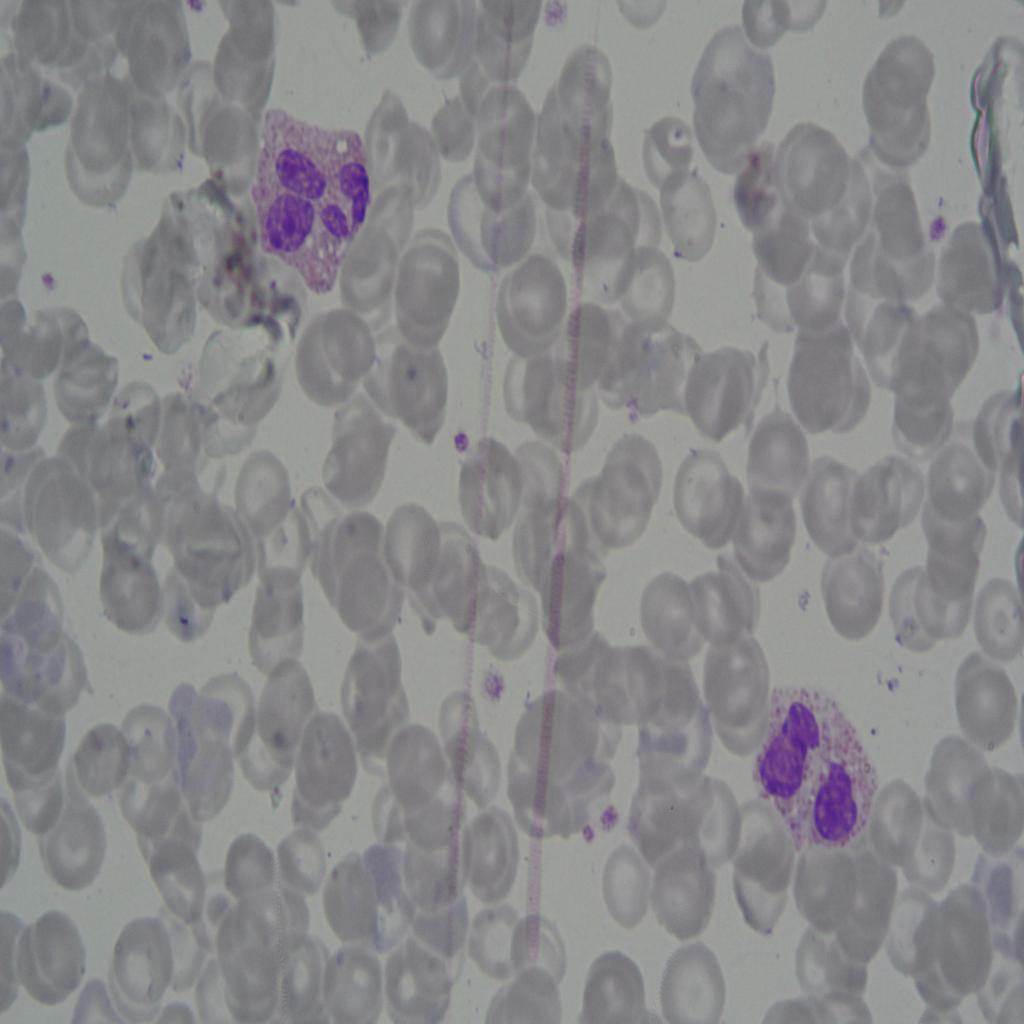Eosinofil: (246, 91, 374, 300), (754, 684, 880, 851)
Platelet: (916, 208, 958, 286), (35, 257, 73, 313), (473, 666, 515, 706), (450, 420, 471, 459), (596, 801, 621, 829), (577, 820, 594, 851)
